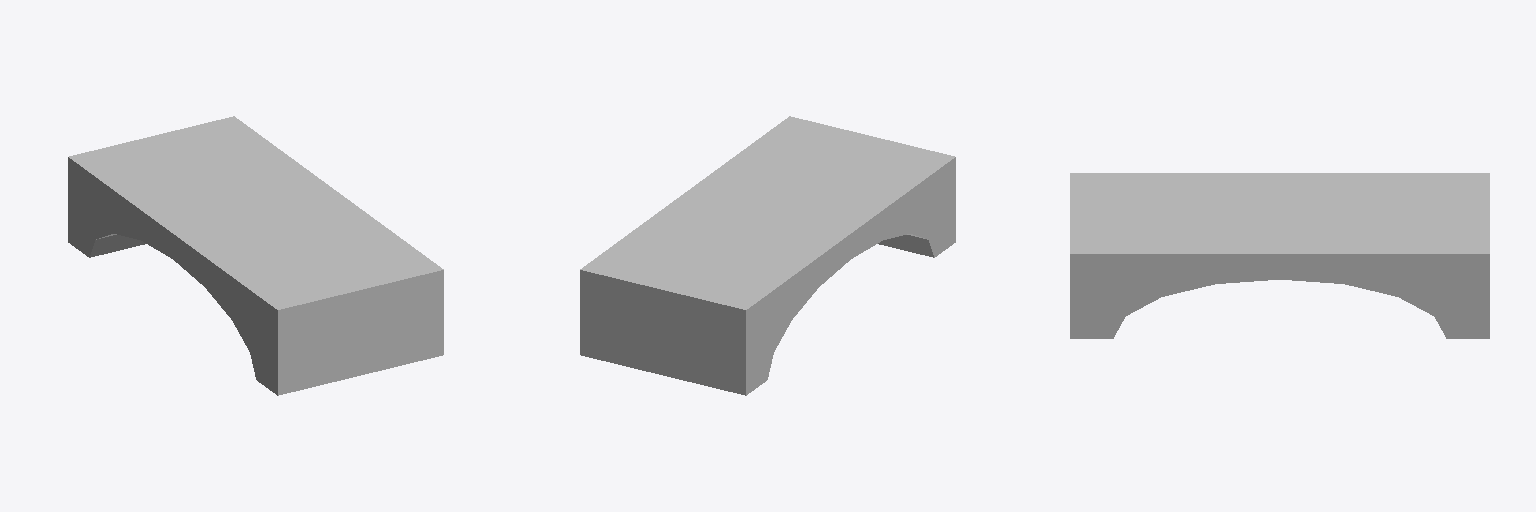
Rendered from largearcbridgepillar.obj.
The picture shows the model from 3 angles: view 1: azimuth 30°, elevation 25°; view 2: azimuth 150°, elevation 25°; view 3: azimuth 270°, elevation 25°; orthographic projection.
Visible parts, largest first — view 1: Cube_Cube.001; view 2: Cube_Cube.001; view 3: Cube_Cube.001.
Boxes of the visible parts, <box> form: Cube_Cube.001: <box>68,116,443,395</box>; Cube_Cube.001: <box>580,116,955,395</box>; Cube_Cube.001: <box>1070,173,1489,338</box>.
Size of the model in its own units: 1.55 by 0.7626 by 3.39.